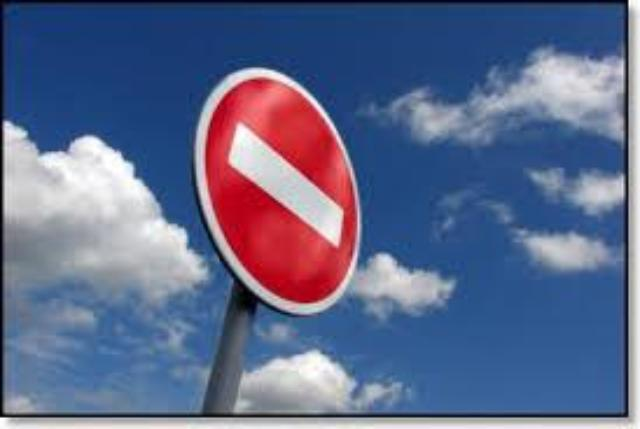B2: (188, 61, 364, 317)
